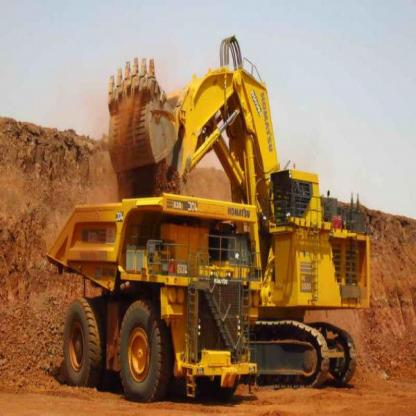dump_truck: (41, 183, 260, 398)
excavator: (104, 34, 377, 386)
